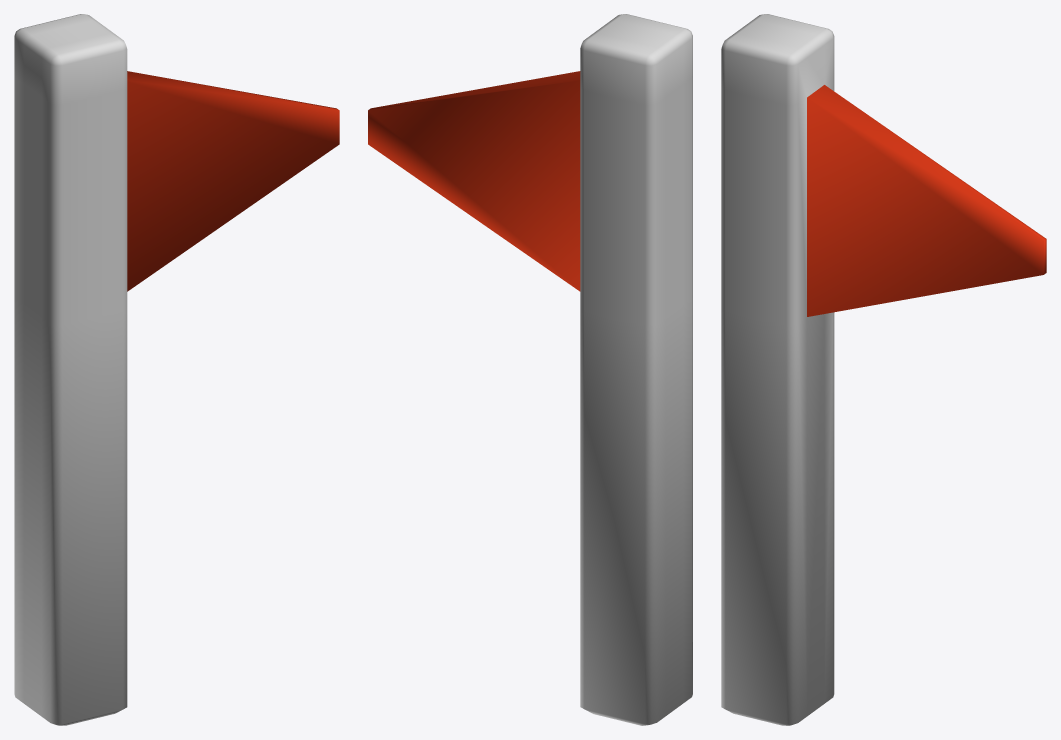
Rendered from Goal v.2.fbx.
3 renders of one model, left to right at view 1: azimuth 30°, elevation 25°; view 2: azimuth 150°, elevation 25°; view 3: azimuth 330°, elevation 25°, orthographic.
Visible parts, largest first — view 1: Goal; view 2: Goal; view 3: Goal.
Part boxes in pixels (box(x1,y1,x2,y2)): Goal: box(14, 14, 339, 725); Goal: box(368, 14, 692, 725); Goal: box(721, 14, 1046, 725).
Size of the model in its own units: 47.95 by 101 by 11.92.
